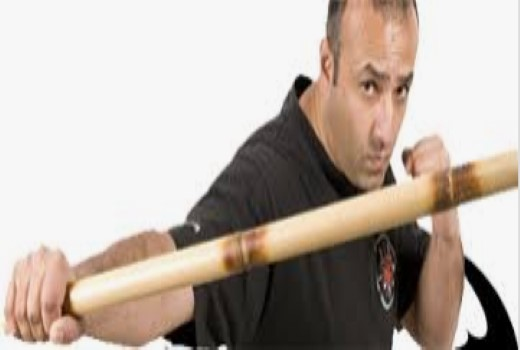baston_e: (74, 140, 507, 300)
